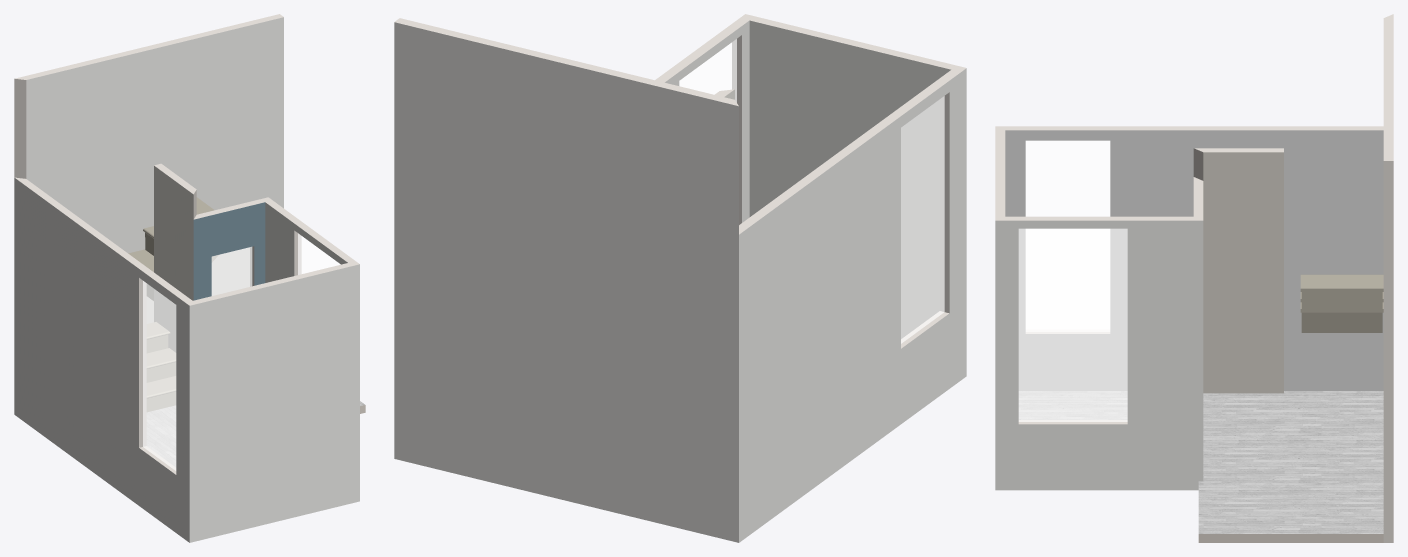
The model's file is SouthTheaterStairsBottom.glb.
3 views of the same model, side by side, from view 1: azimuth 30°, elevation 25°; view 2: azimuth 150°, elevation 25°; view 3: azimuth 270°, elevation 25° (orthographic). The views are drawn at different scales.
Parts seen in each view (by area): view 1: wall_16, wall_1, wall_3, door_1, door_3, wall_10, wall_6, wall_13, wall_14, stairs31, window_0, window_2 (+9 smaller); view 2: wall_5, wall_3, wall_8, door_1, door_3, wall_13, wall_14, wall_17, wall_15, door_0, door_2, wall_9; view 3: wall_12, wall_4, floor_Other_1, door_0, door_2, wall_2, door_1, door_3, wall_17, stairs30, floor_Other_2, joint_6 (+4 smaller).
Boxes of the visible parts, left/top/right/bottom form: wall_16: left=26, top=17, right=283, bottom=323; wall_1: left=189, top=264, right=359, bottom=542; wall_3: left=14, top=178, right=189, bottom=542; door_1: left=143, top=281, right=175, bottom=470; door_3: left=143, top=281, right=175, bottom=470; wall_10: left=154, top=166, right=193, bottom=352; wall_6: left=193, top=202, right=265, bottom=300; wall_13: left=15, top=177, right=192, bottom=474; wall_14: left=265, top=202, right=347, bottom=282; stairs31: left=147, top=322, right=175, bottom=411; window_0: left=212, top=247, right=251, bottom=295; window_2: left=212, top=247, right=251, bottom=295; wall_5: left=394, top=22, right=738, bottom=542; wall_3: left=739, top=68, right=966, bottom=542; wall_8: left=749, top=20, right=950, bottom=338; door_1: left=901, top=96, right=944, bottom=343; door_3: left=901, top=96, right=944, bottom=343; wall_13: left=739, top=68, right=966, bottom=348; wall_14: left=665, top=20, right=749, bottom=222; wall_17: left=394, top=18, right=738, bottom=106; wall_15: left=655, top=14, right=749, bottom=224; door_0: left=679, top=39, right=736, bottom=101; door_2: left=679, top=39, right=736, bottom=101; wall_9: left=745, top=14, right=965, bottom=69; wall_12: left=1005, top=130, right=1383, bottom=390; wall_4: left=995, top=220, right=1203, bottom=490; floor_Other_1: left=1198, top=391, right=1383, bottom=533; door_0: left=1019, top=229, right=1127, bottom=421; door_2: left=1019, top=229, right=1127, bottom=421; wall_2: left=1203, top=152, right=1283, bottom=393; door_1: left=1026, top=141, right=1109, bottom=216; door_3: left=1026, top=141, right=1109, bottom=216; wall_17: left=1383, top=14, right=1393, bottom=542; stairs30: left=1300, top=274, right=1383, bottom=332; floor_Other_2: left=1019, top=391, right=1127, bottom=419; joint_6: left=1383, top=161, right=1393, bottom=542.
Size of the model in its own units: 3.55 by 4.29 by 4.06.
19 materials, 2 textured.
